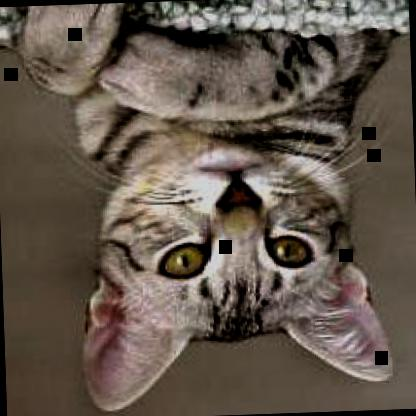cat: (20, 0, 401, 415)
